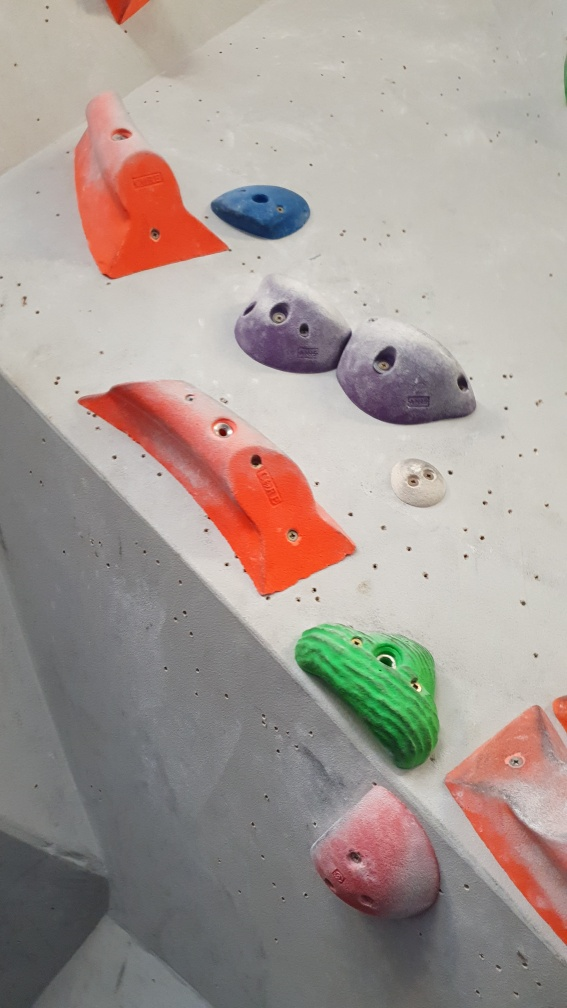Crimp: (209, 182, 316, 246)
Jug: (296, 619, 443, 774), (341, 316, 479, 431), (228, 275, 352, 376)
Pinch: (79, 378, 360, 599), (439, 704, 567, 955), (70, 90, 231, 281)
